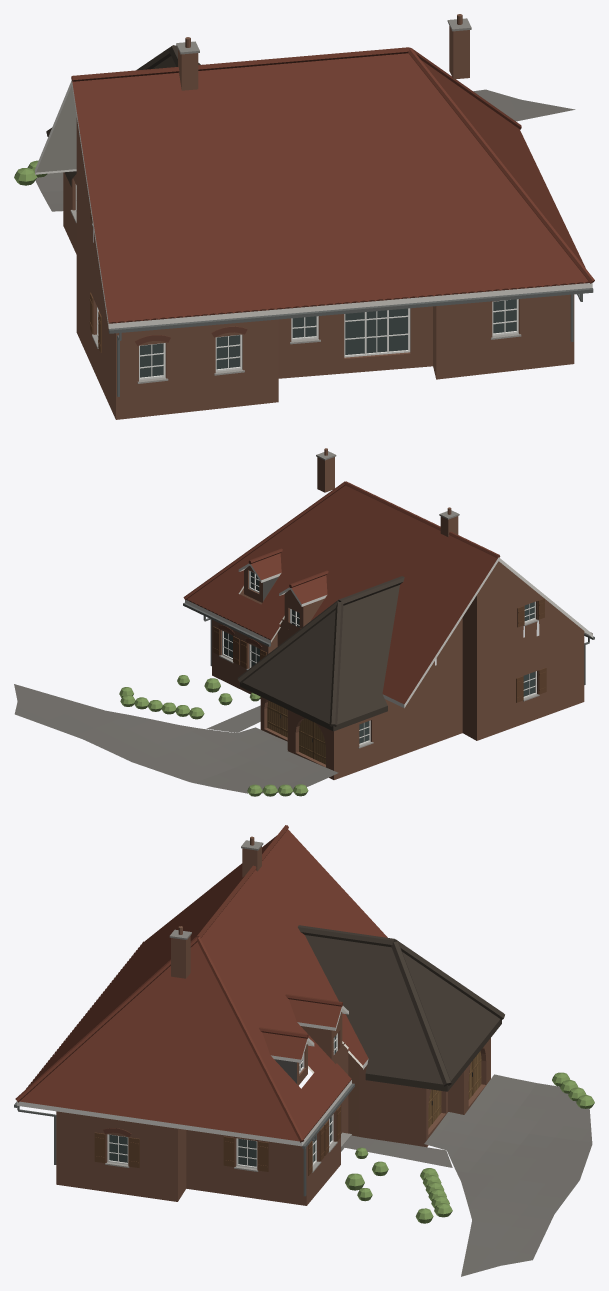
Rendered from vh_fermette.glb.
3 renders of one model, top to bottom at view 1: azimuth 30°, elevation 25°; view 2: azimuth 150°, elevation 25°; view 3: azimuth 270°, elevation 25°, orthographic. The views are drawn at different scales.
Parts seen in each view (by area): view 1: vh_roof, vh_brick, vh_trim, vh_frames_small, vh_glass, vh_stone, vh_paving; view 2: vh_brick, vh_roof, vh_paving, vh_stone, vh_trim, vh_frames_small, vh_hedge, vh_glass; view 3: vh_roof, vh_brick, vh_paving, vh_stone, vh_frames_small, vh_trim, vh_hedge, vh_glass.
Boxes of the visible parts, x1,y1,x2,y2 form: vh_roof: [71, 47, 594, 323]; vh_brick: [63, 26, 574, 419]; vh_trim: [35, 80, 592, 328]; vh_frames_small: [75, 184, 593, 396]; vh_glass: [140, 299, 516, 377]; vh_stone: [46, 14, 521, 383]; vh_paving: [35, 89, 575, 211]; vh_brick: [212, 457, 584, 779]; vh_roof: [183, 481, 500, 704]; vh_paving: [14, 684, 338, 793]; vh_stone: [218, 448, 539, 748]; vh_trim: [185, 557, 592, 764]; vh_frames_small: [183, 570, 594, 763]; vh_hedge: [119, 675, 308, 796]; vh_glass: [224, 572, 534, 743]; vh_roof: [15, 825, 387, 1142]; vh_brick: [56, 846, 490, 1205]; vh_paving: [342, 1074, 592, 1276]; vh_stone: [103, 836, 504, 1172]; vh_frames_small: [14, 1033, 481, 1196]; vh_trim: [17, 941, 501, 1146]; vh_hedge: [345, 1072, 594, 1223]; vh_glass: [109, 1036, 335, 1166].
Size of the model in its own units: 27.16 by 11.77 by 25.5.
